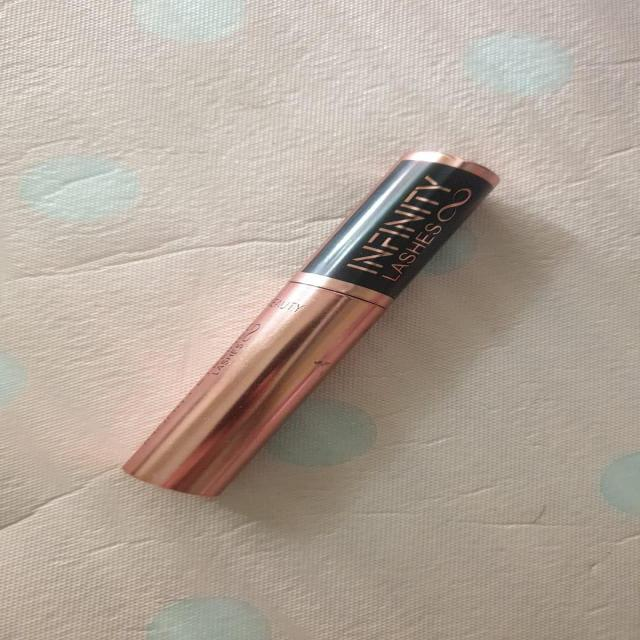lip stick: (56, 151, 546, 514)
